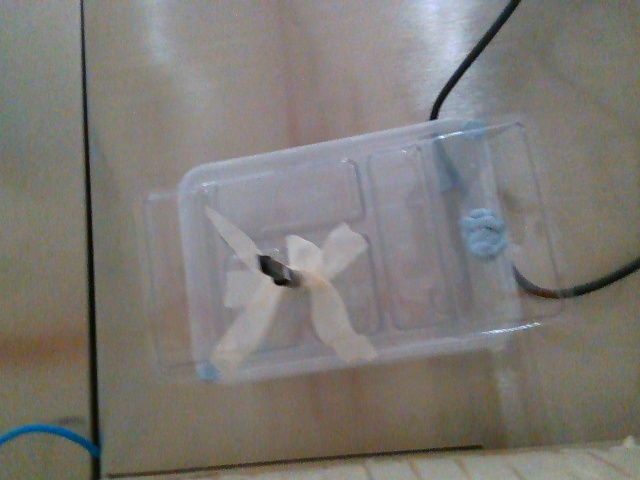test_strip: (255, 253, 288, 281)
